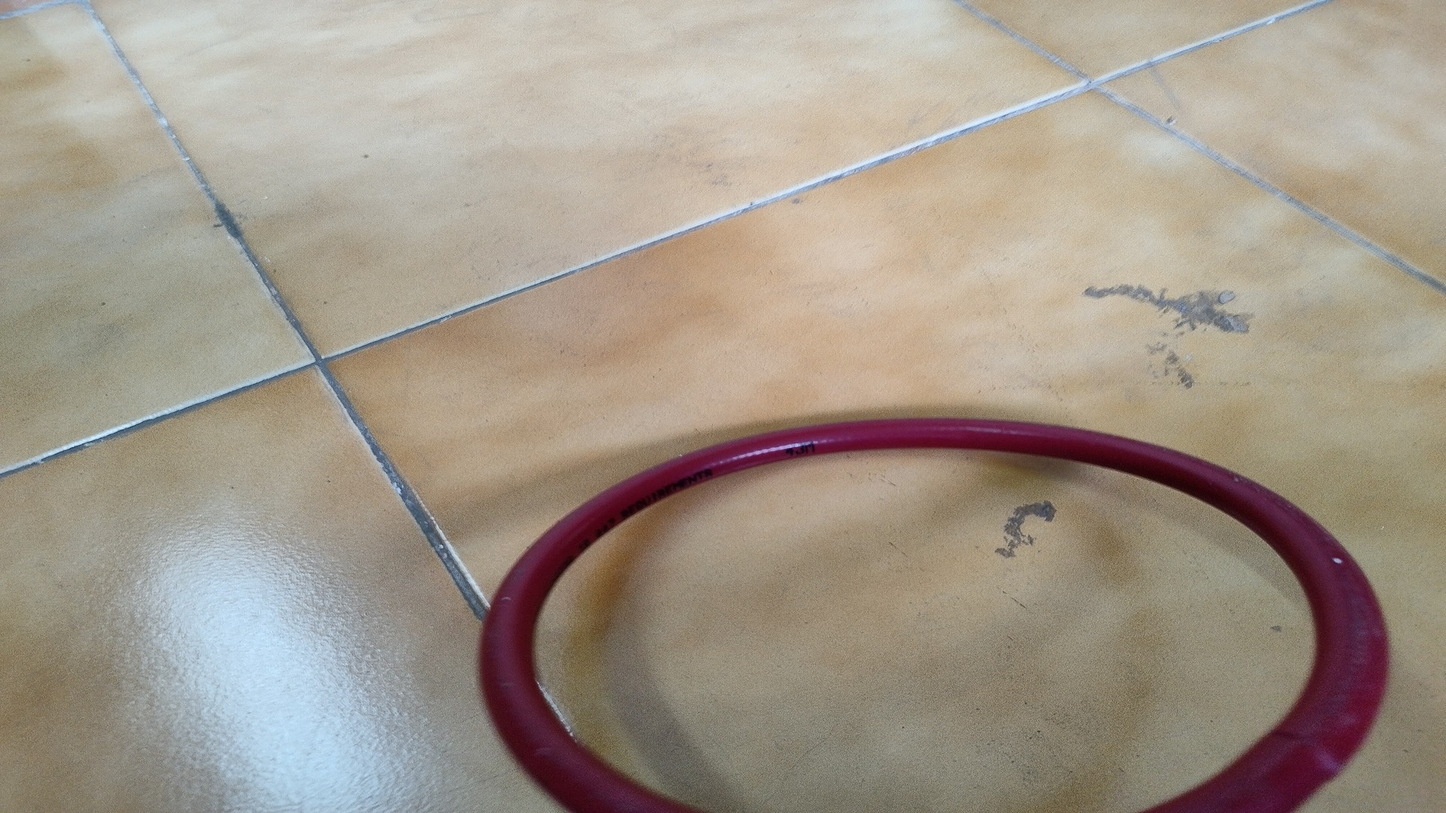Red ring: (477, 417, 1391, 811)
